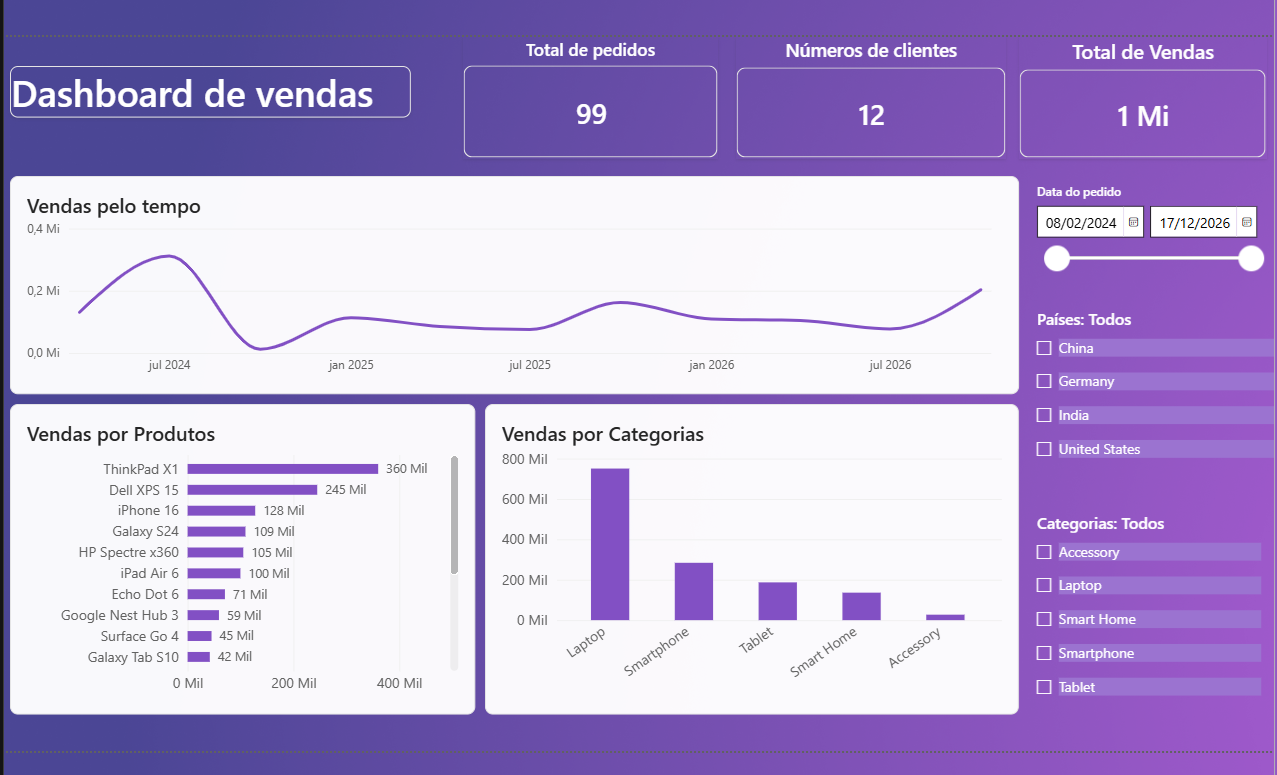

This screenshot's page, from the dashboard's own definition file:
{"tool":"powerbi","page":{"name":"Page 1","canvas":[1280,720],"ordinal":0},"visuals":[{"type":"barChart","title":"Vendas por Produtos","fields":{"Category":["orders.product_name"],"Y":["Sum(orders.sales)"]},"box":[6.3,370,468.8,312.8],"z":0},{"type":"clusteredColumnChart","title":"Vendas por Categorias","fields":{"Category":["orders.product_category"],"Y":["Sum(orders.Vendas)"]},"box":[485.1,370,537.7,312.8],"z":1000},{"type":"cardVisual","title":"Total de pedidos","fields":{"Data":["CountNonNull(orders.order_id)"]},"box":[462.6,0,257,123],"z":2000},{"type":"cardVisual","title":"Números de clientes","fields":{"Data":["Count(orders.clientes_id)"]},"box":[737.8,0,272.1,123],"z":3000},{"type":"cardVisual","title":"Total de Vendas","fields":{"Data":["Sum(orders.Vendas)"]},"box":[1023,0,250,123],"z":4000},{"type":"lineChart","title":"Vendas pelo tempo","fields":{"Category":["orders.order_date.Variation.Date Hierarchy.Year","orders.order_date.Variation.Date Hierarchy.Quarter","orders.order_date.Variation.Date Hierarchy.Month","orders.order_date.Variation.Date Hierarchy.Day"],"Y":["Sum(orders.sales)"]},"box":[6.3,139.6,1016.5,220.4],"z":5000},{"type":"slicer","fields":{"Values":["customers.country"]},"box":[1033.1,273.1,246.9,170.3],"z":6000},{"type":"slicer","fields":{"Values":["orders.product_category"]},"box":[1033.1,478.7,233.8,211.7],"z":7000},{"type":"slicer","fields":{"Values":["orders.order_date"]},"box":[1033.1,147.1,239.9,115.9],"z":8000},{"type":"textbox","box":[6,28.7,404.2,52.4],"z":9000}]}

Visuals, with their boxes in screenshot pixels (x1, y1, x2, y2):
"Vendas por Produtos" barChart: <region>6, 401, 467, 708</region>
"Vendas por Categorias" clusteredColumnChart: <region>477, 401, 1006, 708</region>
"Total de pedidos" cardVisual: <region>455, 37, 708, 158</region>
"Números de clientes" cardVisual: <region>726, 37, 994, 158</region>
"Total de Vendas" cardVisual: <region>1006, 37, 1252, 158</region>
"Vendas pelo tempo" lineChart: <region>6, 174, 1006, 391</region>
slicer - customers.country: <region>1016, 305, 1259, 473</region>
slicer - orders.product_category: <region>1016, 508, 1246, 716</region>
slicer - orders.order_date: <region>1016, 181, 1252, 295</region>
textbox: <region>6, 65, 404, 116</region>
